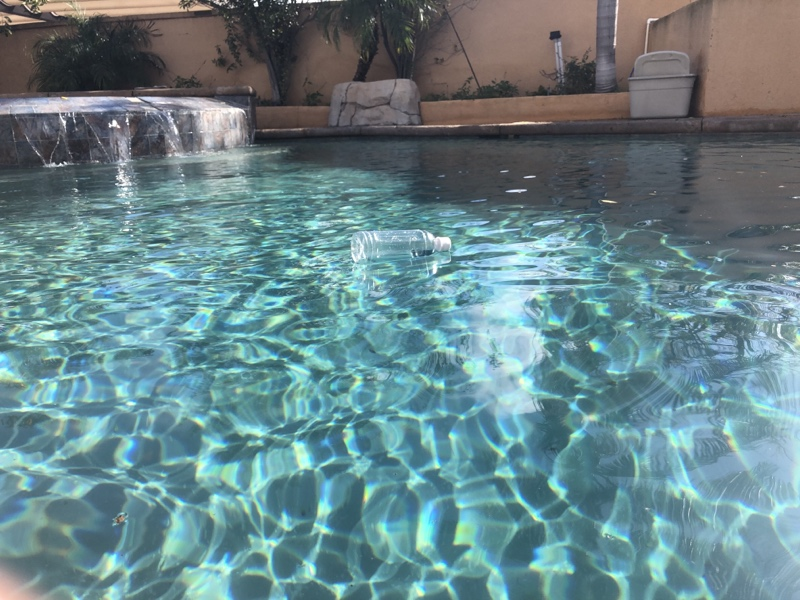Plastic Bottle: (343, 227, 456, 264)
